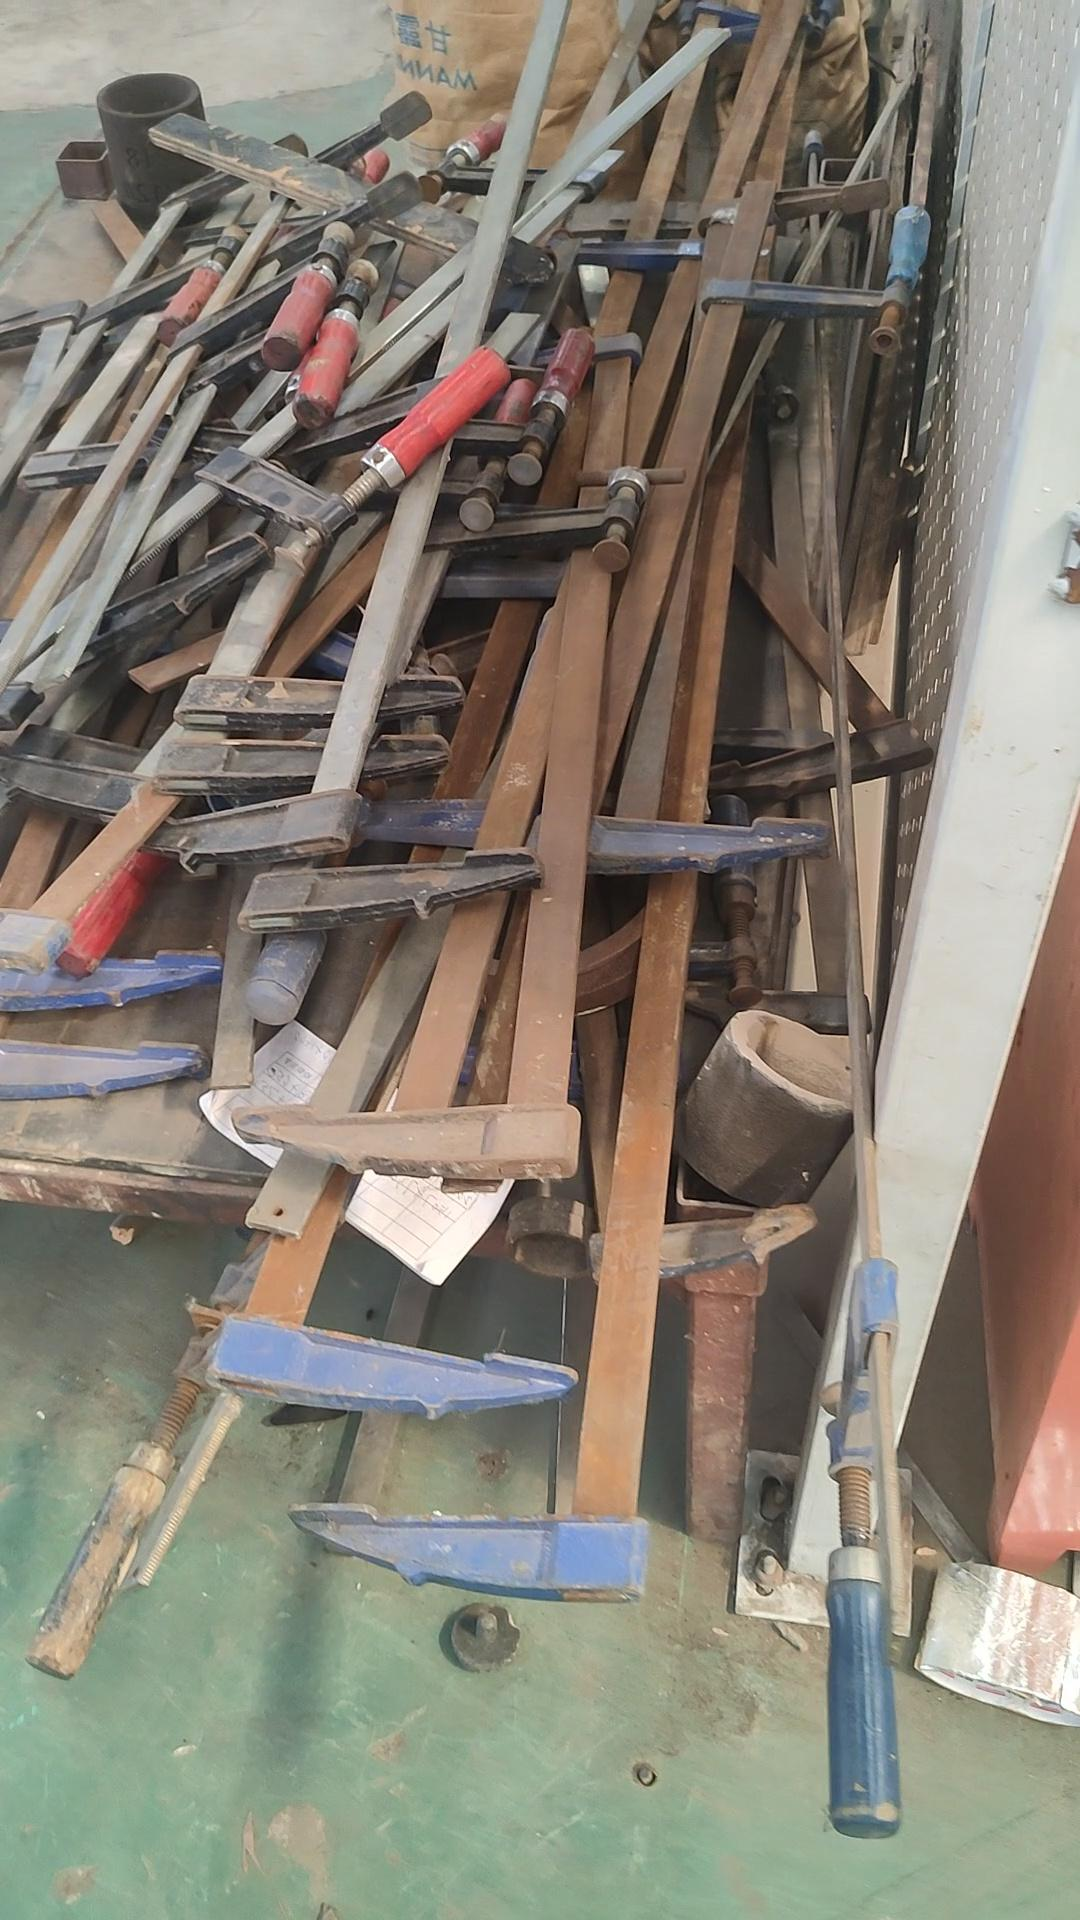pouring hole: (96, 73, 194, 115)
